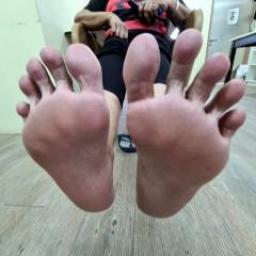Plantar View -Both Feet-: (5, 23, 250, 224)
